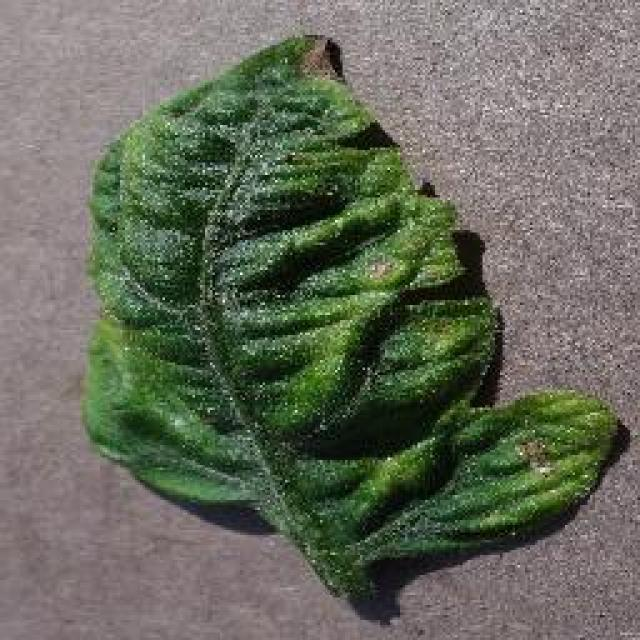Tomato yellow virus leaf: (79, 30, 618, 560)
